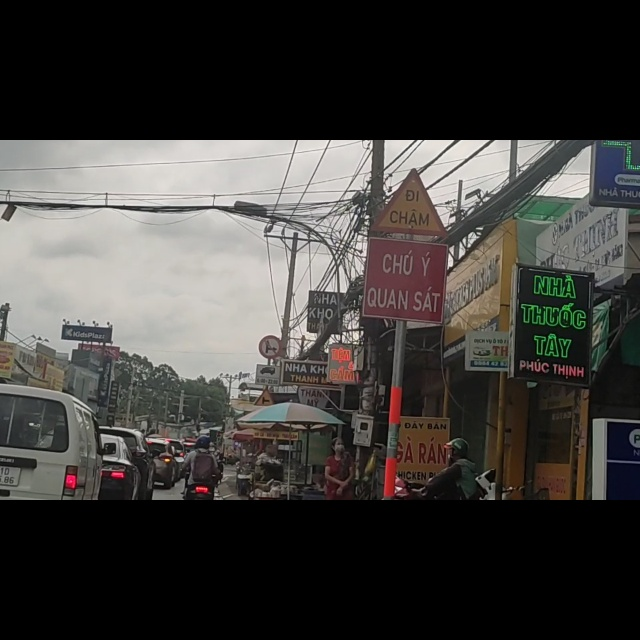bien_cam: (369, 49, 455, 173), (257, 343, 285, 393), (257, 401, 281, 434), (255, 437, 275, 475)
